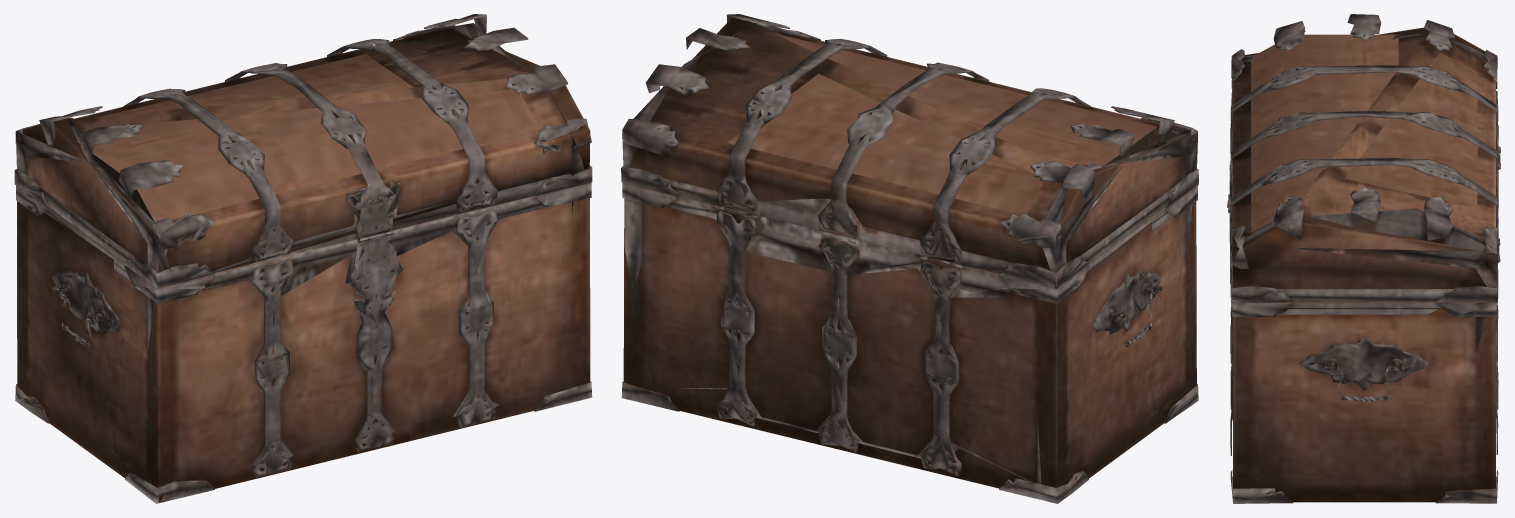
The model's file is legendaire.glb.
The picture shows the model from 3 angles, left to right: view 1: azimuth 30°, elevation 25°; view 2: azimuth 150°, elevation 25°; view 3: azimuth 270°, elevation 25°; orthographic projection. The views are drawn at different scales.
Parts seen in each view (by area): view 1: treasure_chest_bottom; view 2: treasure_chest_bottom; view 3: treasure_chest_bottom.
Boxes of the visible parts, bbox=[...] form: treasure_chest_bottom: bbox=[14, 14, 592, 503]; treasure_chest_bottom: bbox=[621, 14, 1198, 503]; treasure_chest_bottom: bbox=[1227, 14, 1500, 503].
Bounding box in the file's own units: 0.9509 × 0.6157 × 0.522.
1 material, 1 textured.
